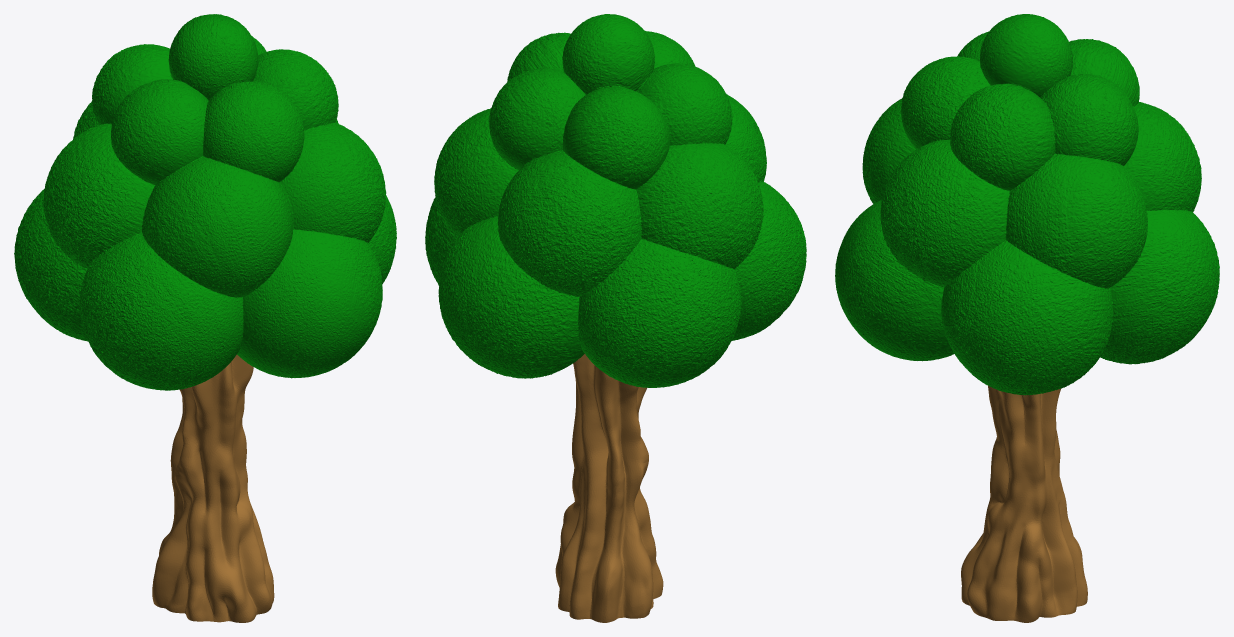
Rendered from Tree_Stock_01_LOD1.glb.
3 views of the same model, side by side, from view 1: azimuth 30°, elevation 25°; view 2: azimuth 150°, elevation 25°; view 3: azimuth 270°, elevation 25° (orthographic).
Visible parts, largest first — view 1: Sphere, Cylinder; view 2: Sphere, Cylinder; view 3: Sphere, Cylinder.
Part boxes in pixels (box(x1,y1,x2,y2)): Sphere: box(14, 14, 396, 390); Cylinder: box(152, 354, 274, 622); Sphere: box(425, 14, 806, 387); Cylinder: box(555, 354, 663, 622); Sphere: box(835, 14, 1219, 395); Cylinder: box(961, 385, 1087, 622).
Bounding box in the file's own units: 3.01 × 5.12 × 3.07.
